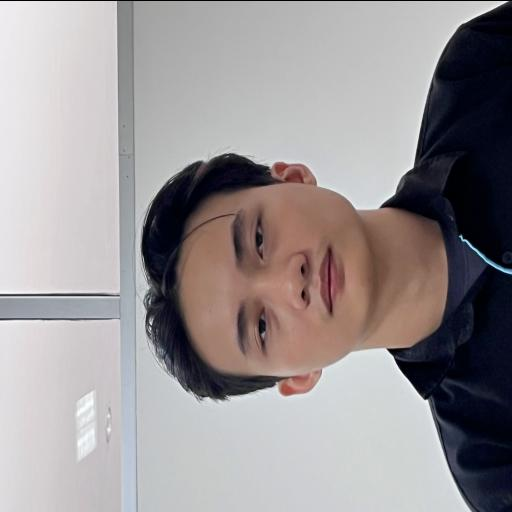wajah: (92, 0, 480, 512)
